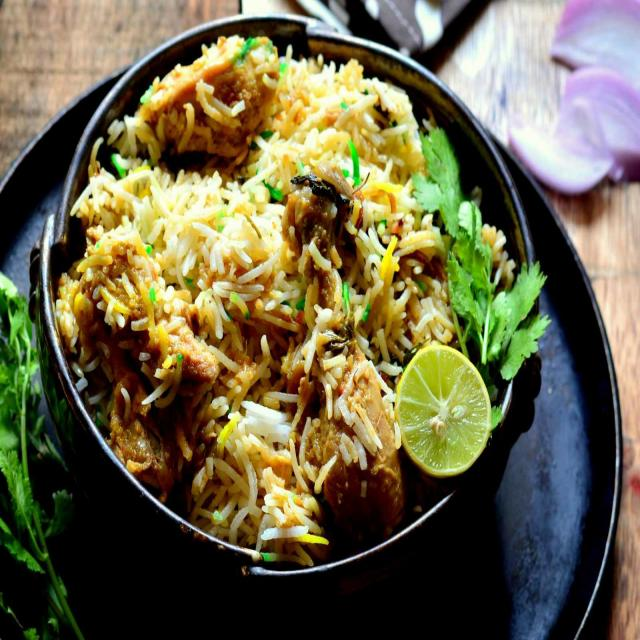Biryani: (52, 29, 518, 568)
